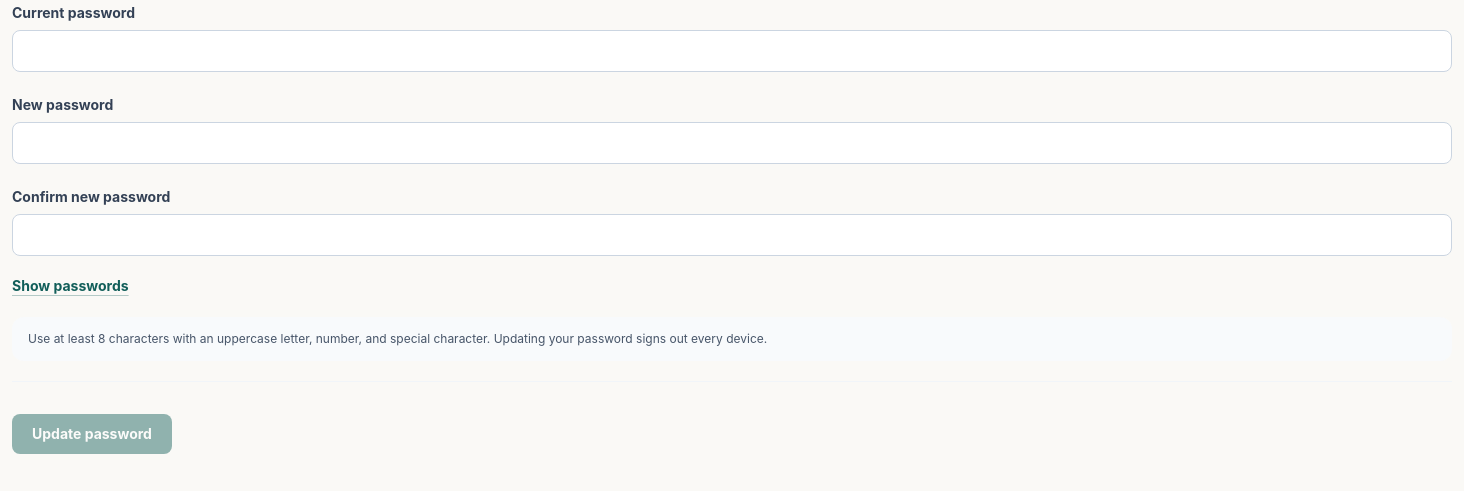
Test: customer security settings › renders and requires a matching password confirmation
This screenshot has width=1464, height=491.
In the password field labelled "Current password": (732, 51) [12, 30, 1452, 72], type "Current1!"
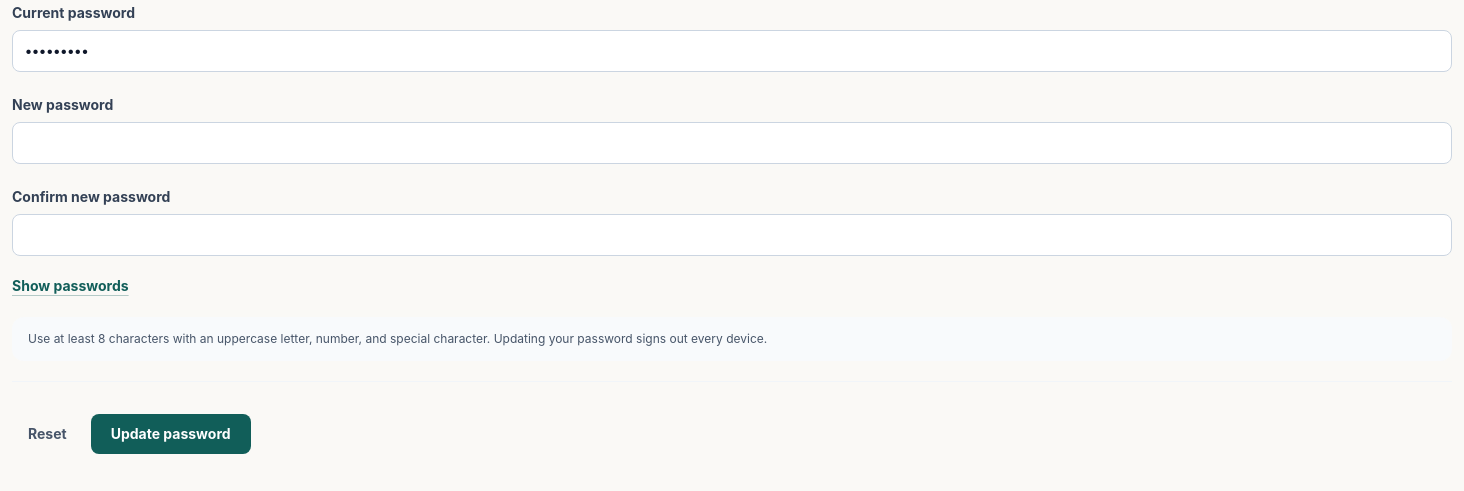
In the password field labelled "New password": (732, 143) [12, 122, 1452, 164], type "Stronger2!"
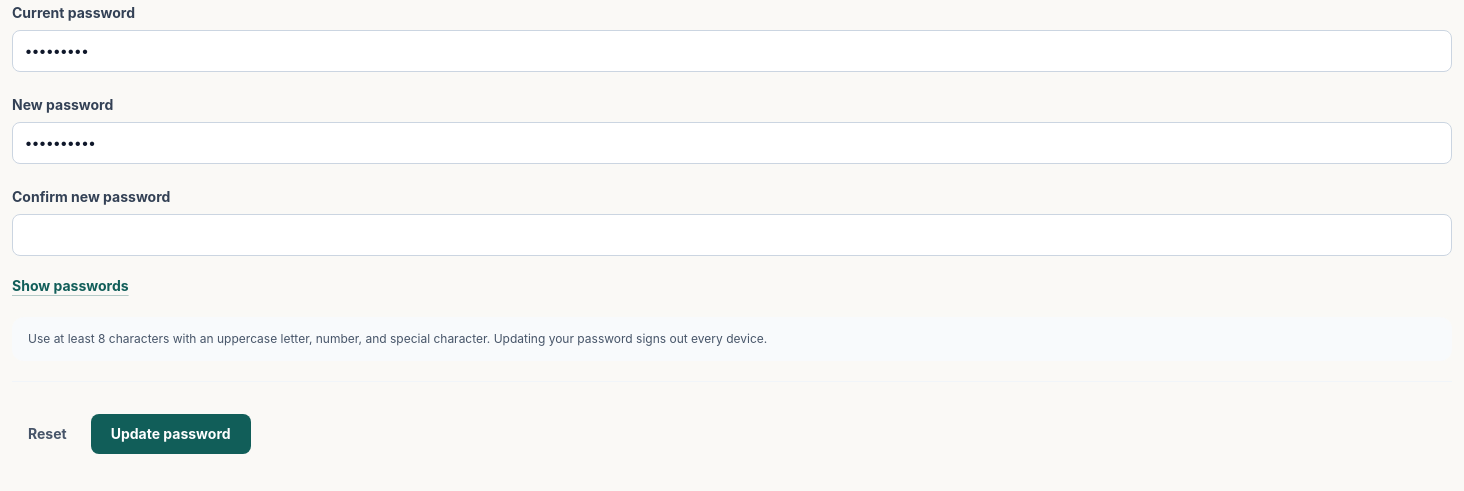
In the password field labelled "Confirm new password": (732, 235) [12, 214, 1452, 256], type "Different3!"
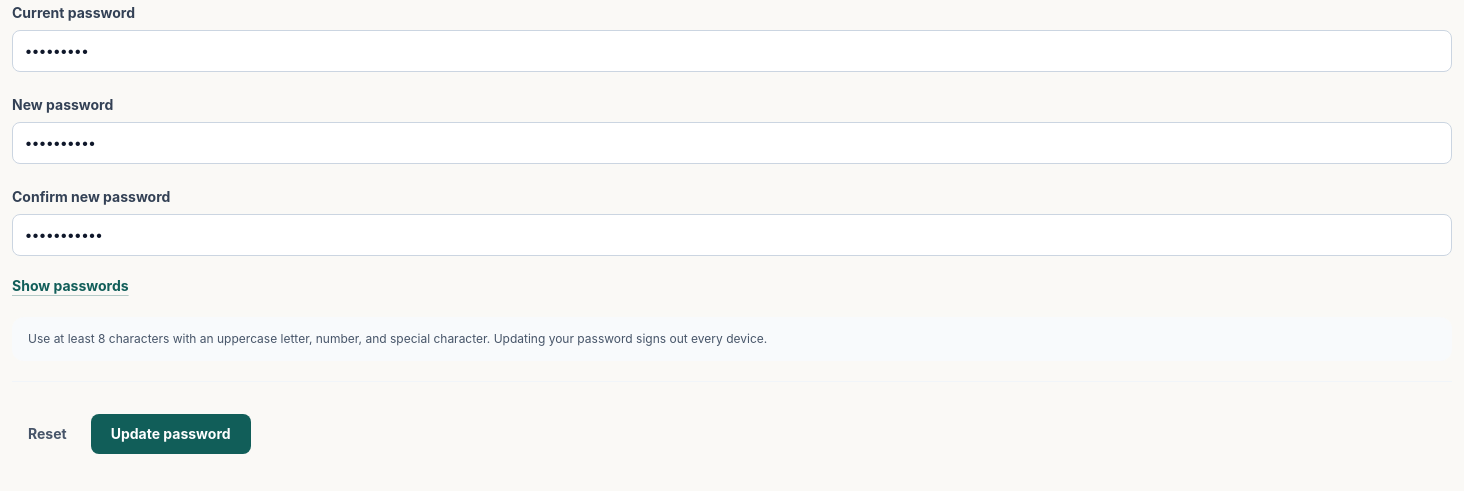
Click the button "Update password": (171, 434) [91, 414, 251, 454]
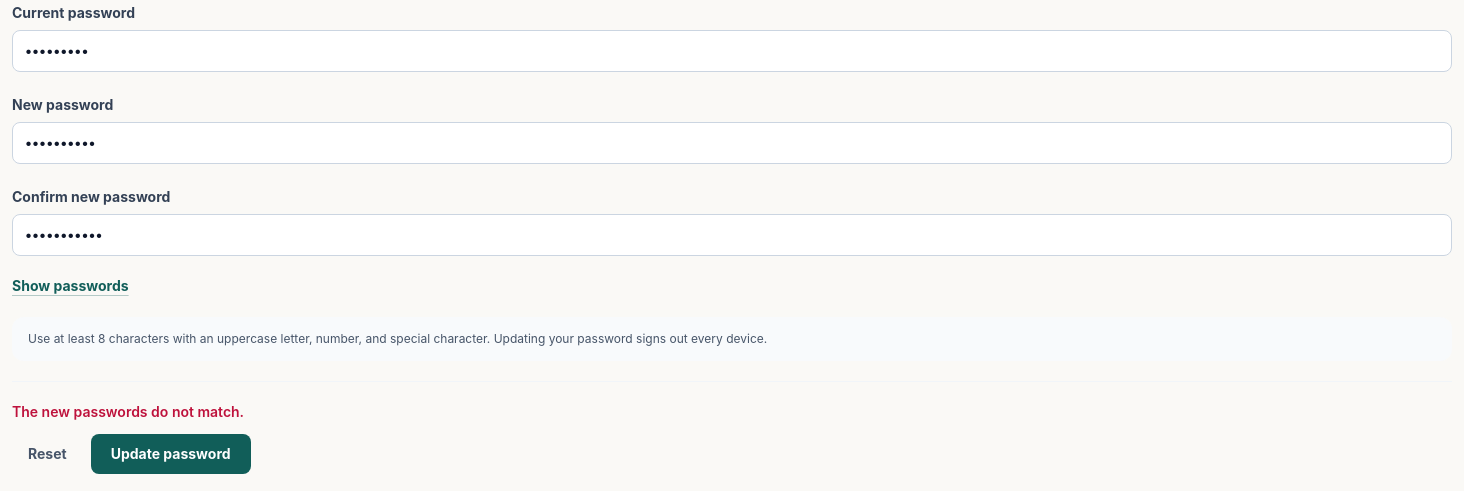
Now the text "The new passwords do not match." is shown, box [12, 403, 244, 420]
